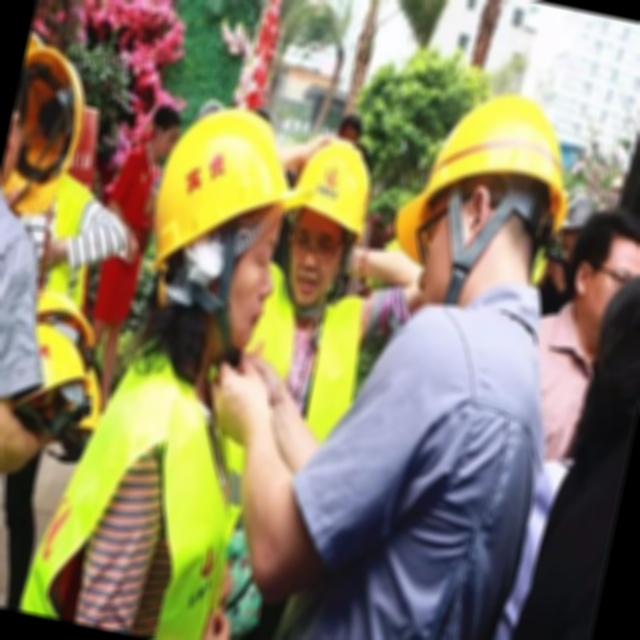Con_Casco: (271, 133, 379, 314)
